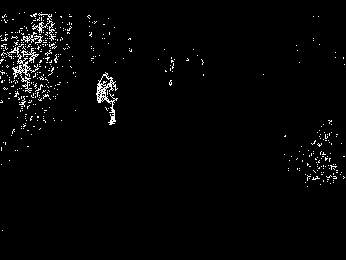person: (96, 70, 119, 126)
